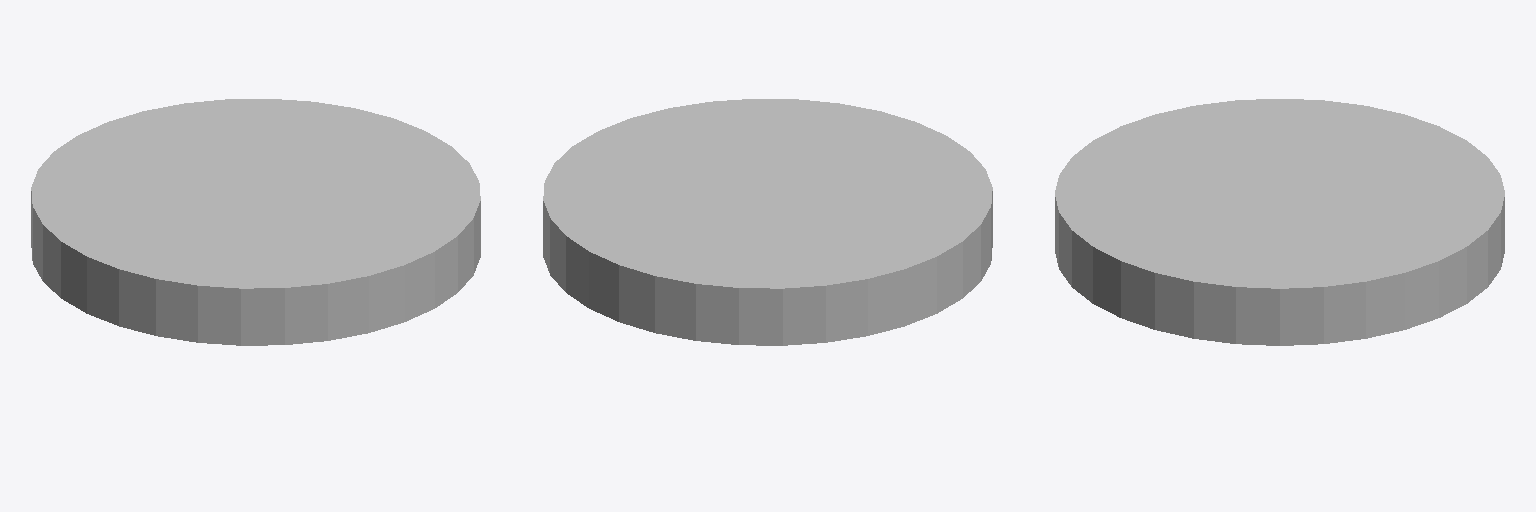
Rendered from BagAttach.obj.
The picture shows the model from 3 angles: view 1: azimuth 30°, elevation 25°; view 2: azimuth 150°, elevation 25°; view 3: azimuth 270°, elevation 25°; orthographic projection.
Visible parts, largest first — view 1: BagAttach; view 2: BagAttach; view 3: BagAttach.
Part boxes in pixels (bbox=[...]): BagAttach: bbox=[31, 99, 480, 345]; BagAttach: bbox=[543, 99, 992, 345]; BagAttach: bbox=[1055, 99, 1504, 345].
Size of the model in its own units: 0.1458 by 0.0445 by 0.1458.